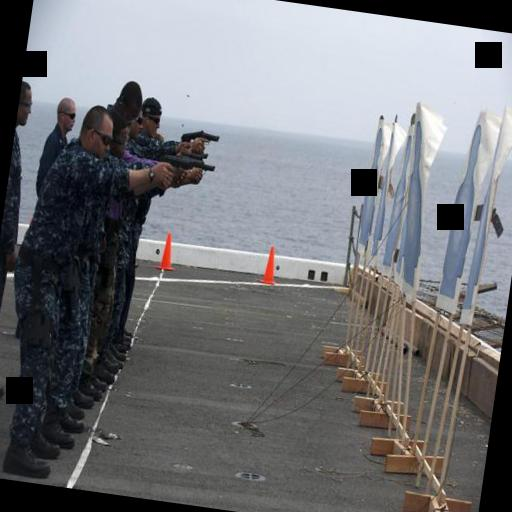Handgun: (162, 146, 190, 180), (187, 155, 219, 176), (198, 127, 224, 150), (176, 124, 204, 145)
